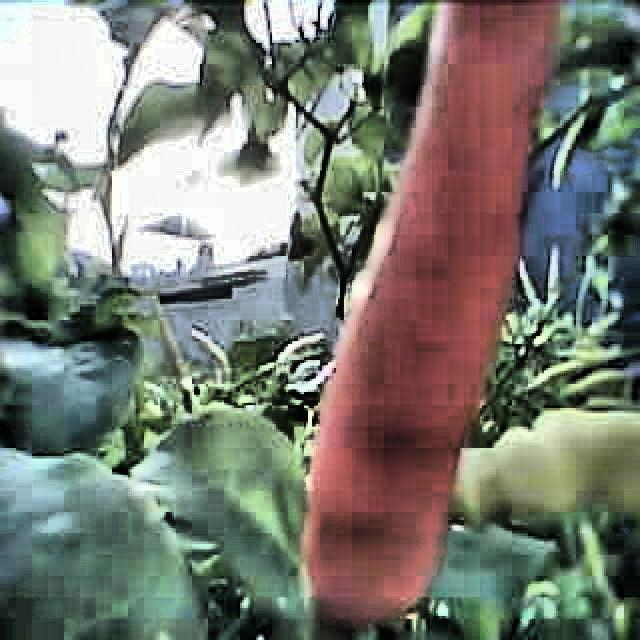Cabai: (311, 0, 529, 436), (515, 405, 639, 506)
